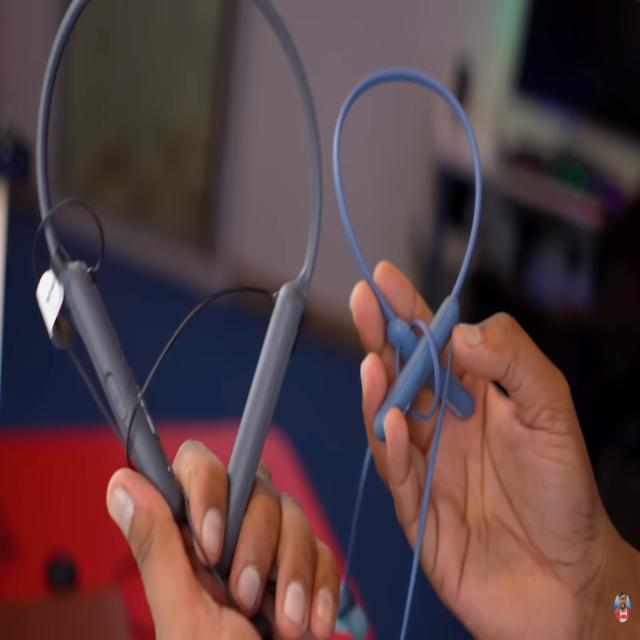Neckband: (31, 0, 325, 640), (332, 66, 484, 640)
